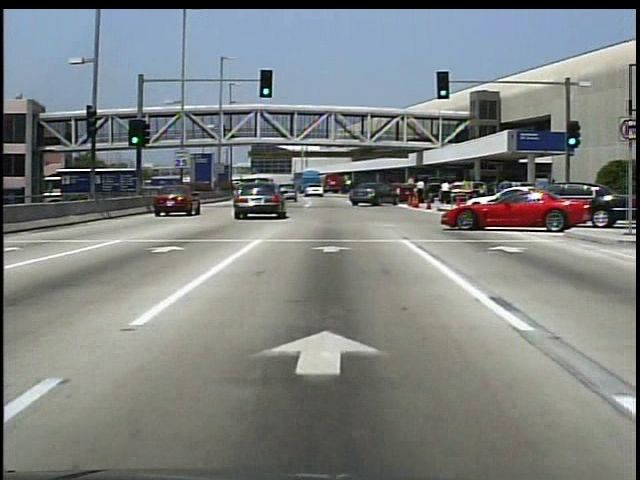person: (414, 177, 430, 210), (440, 184, 455, 210), (220, 126, 229, 141)
